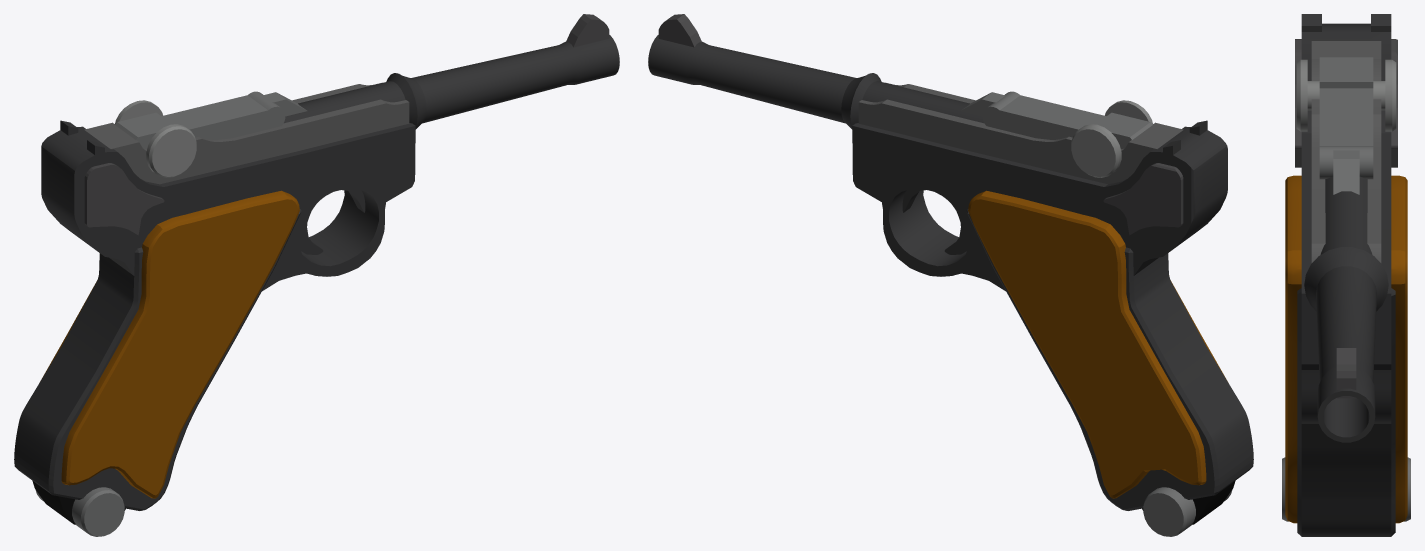
Rendered from Luger_P08_Mesh.fbx.
3 views of the same model, side by side, from view 1: azimuth 30°, elevation 25°; view 2: azimuth 150°, elevation 25°; view 3: azimuth 270°, elevation 25° (orthographic). The views are drawn at different scales.
Visible parts, largest first — view 1: Luger_P08; view 2: Luger_P08; view 3: Luger_P08.
Boxes of the visible parts, box(x1,y1,x2,y2) form: Luger_P08: box(14, 14, 619, 536); Luger_P08: box(648, 14, 1253, 536); Luger_P08: box(1282, 14, 1410, 536).
Size of the model in its own units: 0.3123 by 0.2002 by 0.0464.
